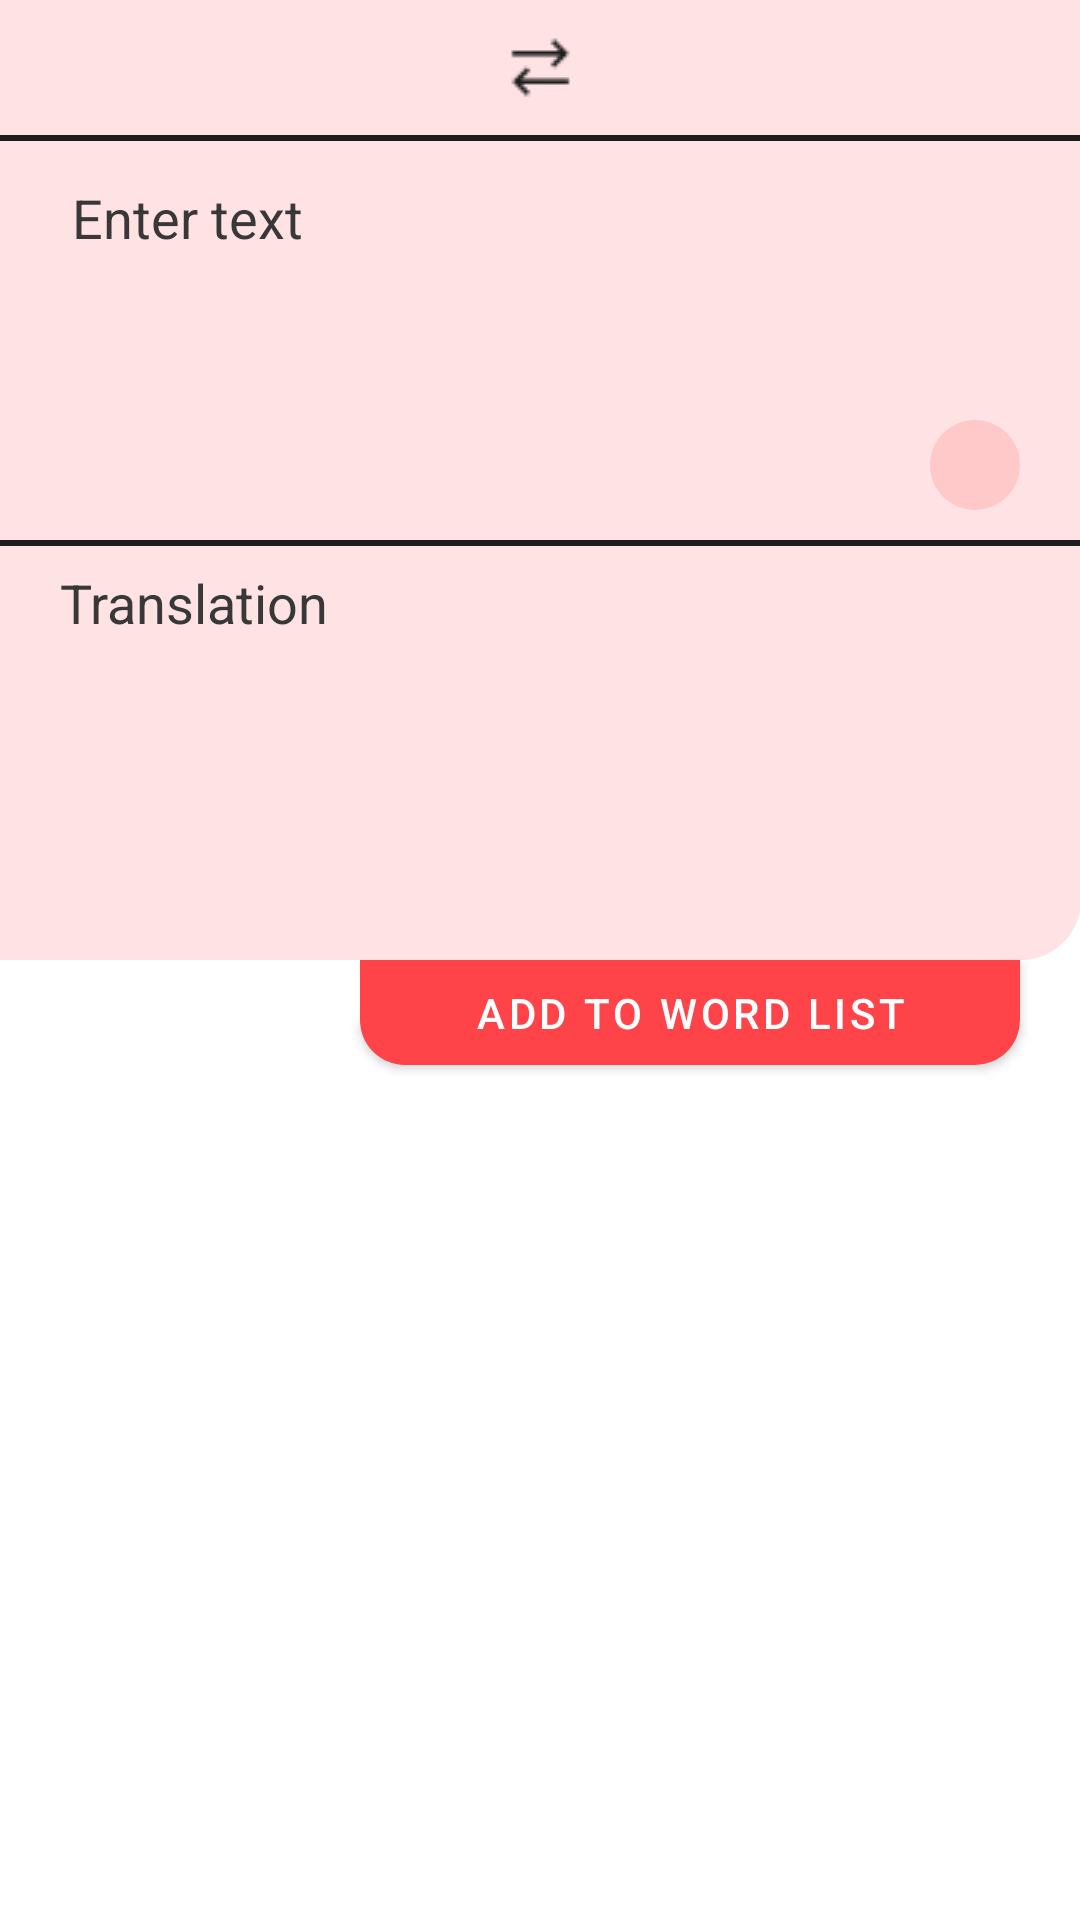

Icon bounding boxes for this 1080*1920 phone screenshot, format (x1, y1, x2, y2):
switch arrows: (511, 38, 570, 97)
